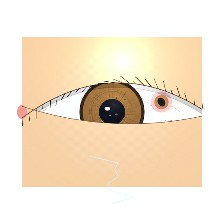foreign_body_visible: (107, 138, 124, 151)
